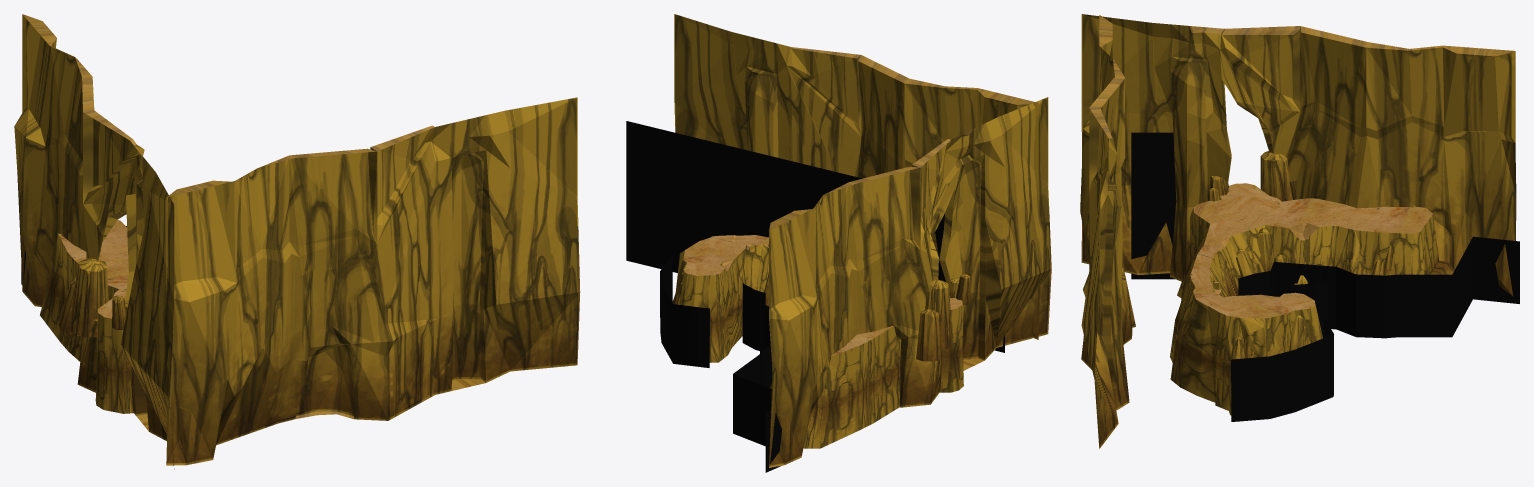
The model's file is cave1.FBX.
3 views of the same model, side by side, from view 1: azimuth 30°, elevation 25°; view 2: azimuth 150°, elevation 25°; view 3: azimuth 270°, elevation 25° (orthographic). The views are drawn at different scales.
Parts seen in each view (by area): view 1: Object011; view 2: Object011, Plane012, Plane015, Plane013, Plane014; view 3: Object011, Plane015, Plane013, Plane012, Plane014.
Part boxes in pixels (x1=…): Object011: x1=14, y1=14, x2=580, y2=469; Object011: x1=672, y1=14, x2=1051, y2=467; Plane012: x1=626, y1=121, x2=1004, y2=352; Plane015: x1=733, y1=345, x2=782, y2=472; Plane013: x1=660, y1=256, x2=709, y2=367; Plane014: x1=742, y1=283, x2=770, y2=352; Object011: x1=1080, y1=14, x2=1516, y2=448; Plane015: x1=1238, y1=236, x2=1519, y2=338; Plane013: x1=1231, y1=318, x2=1333, y2=421; Plane012: x1=1131, y1=132, x2=1176, y2=279; Plane014: x1=1290, y1=269, x2=1328, y2=338.
Bounding box in the file's own units: 870 × 515 × 786.
